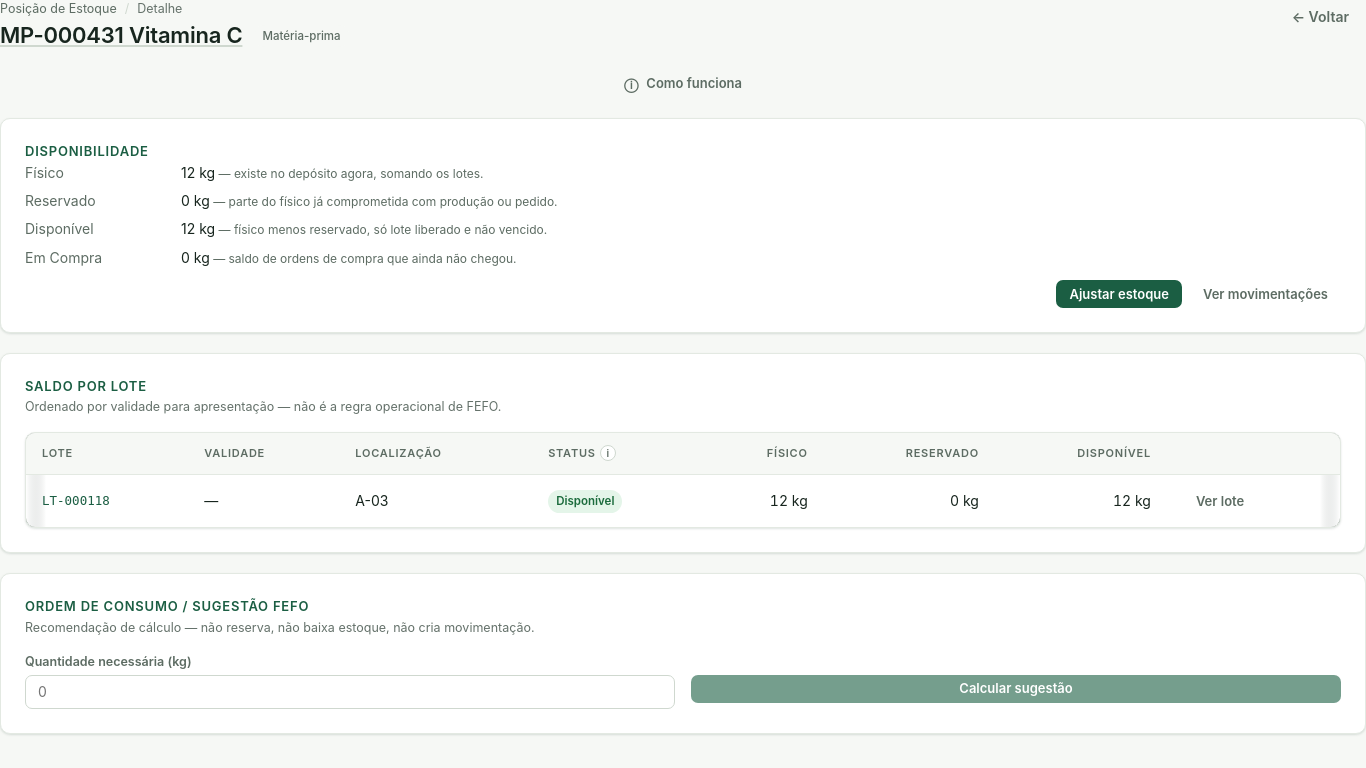
Scenario: Estoque — detalhe do item › item ativo: sem marca, e a entrada manual segue no ajuste
This screenshot has width=1366, height=768.
Expected: the text "LT-000118" is shown, x1=26 y1=475 x2=188 y2=527
Click the button "Ajustar estoque": (1119, 294) x1=1056 y1=280 x2=1182 y2=308
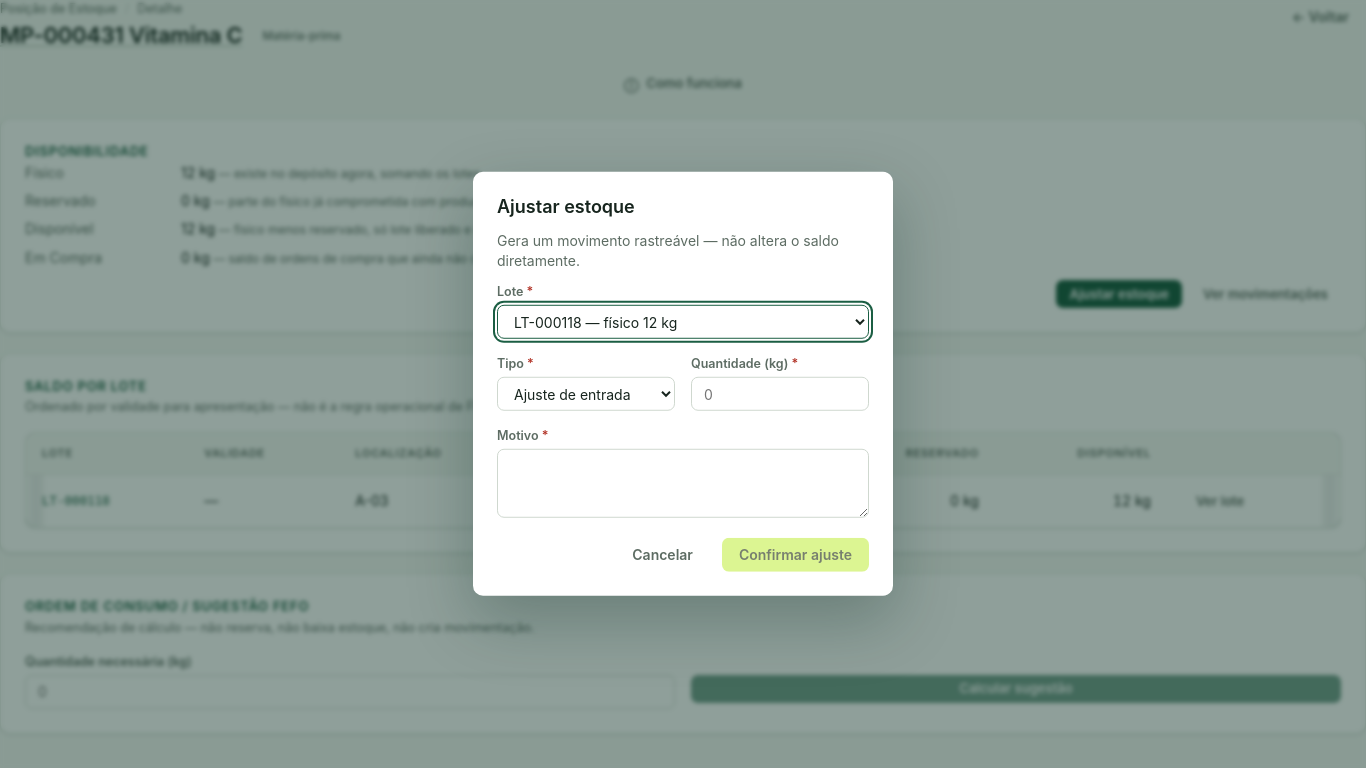
Now the dropdown labelled "Tipo *" shows "Ajuste de entrada", box x1=497 y1=377 x2=675 y2=411
